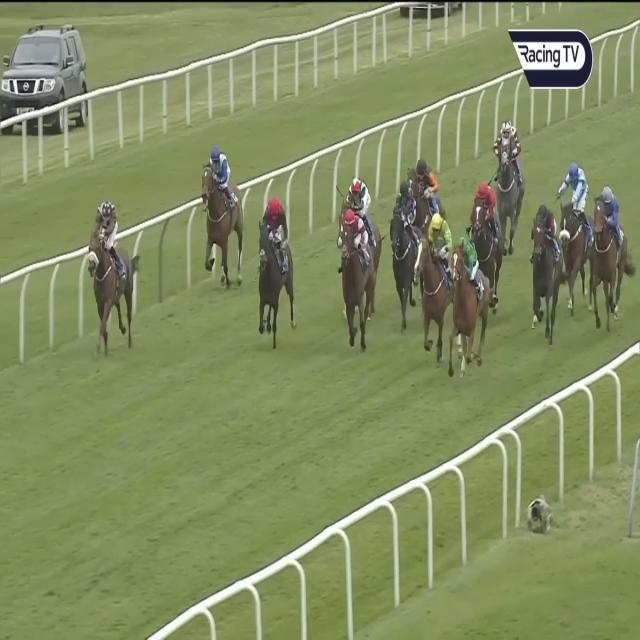horses-racing: (85, 199, 141, 361), (200, 144, 244, 289), (449, 230, 492, 360), (255, 195, 290, 336), (591, 185, 627, 319), (561, 160, 593, 298), (341, 207, 372, 342), (420, 209, 449, 350), (493, 114, 526, 235), (391, 176, 418, 315), (470, 182, 503, 280), (344, 173, 386, 240), (413, 155, 442, 215)
